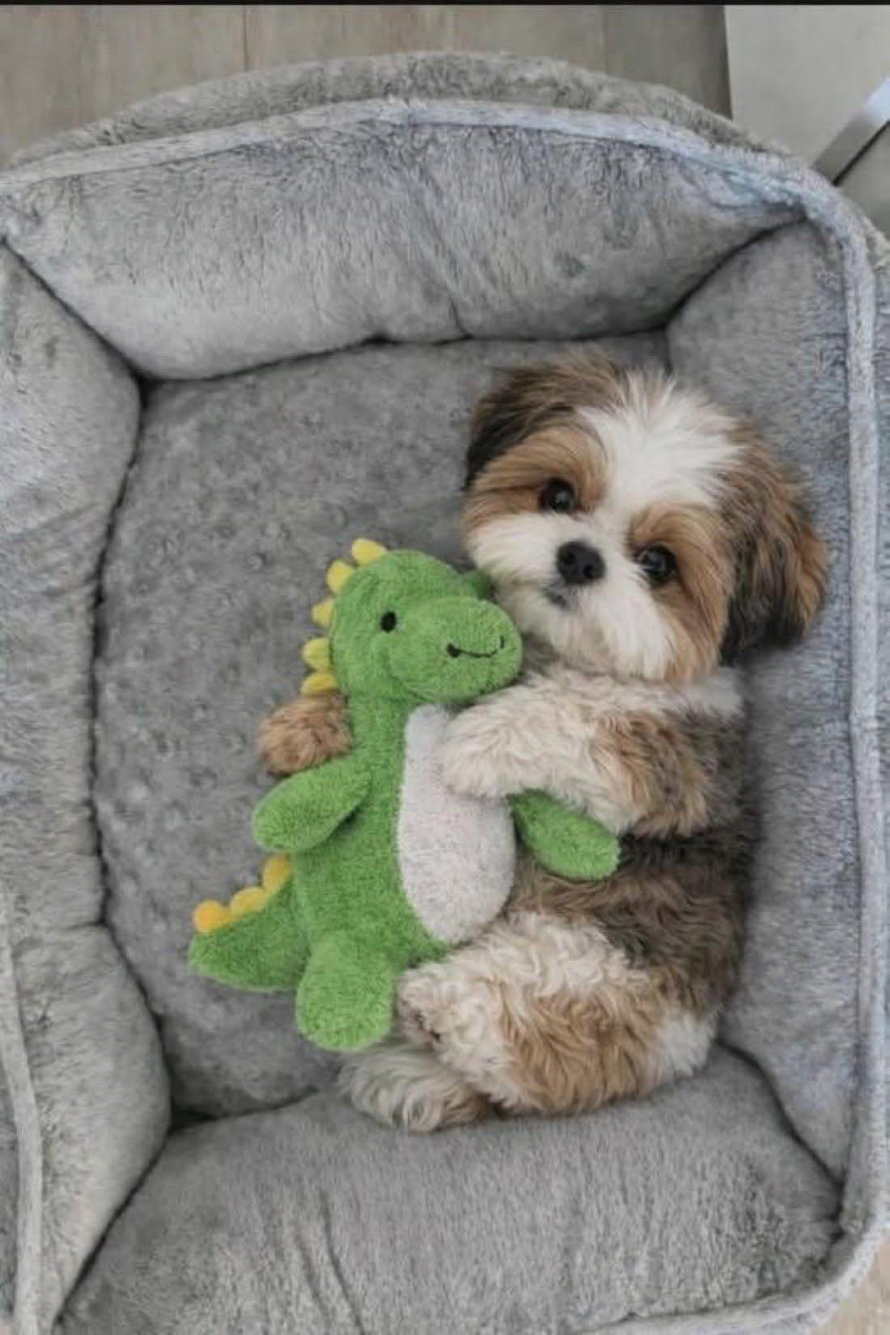puppy-dog: (253, 341, 825, 1137)
